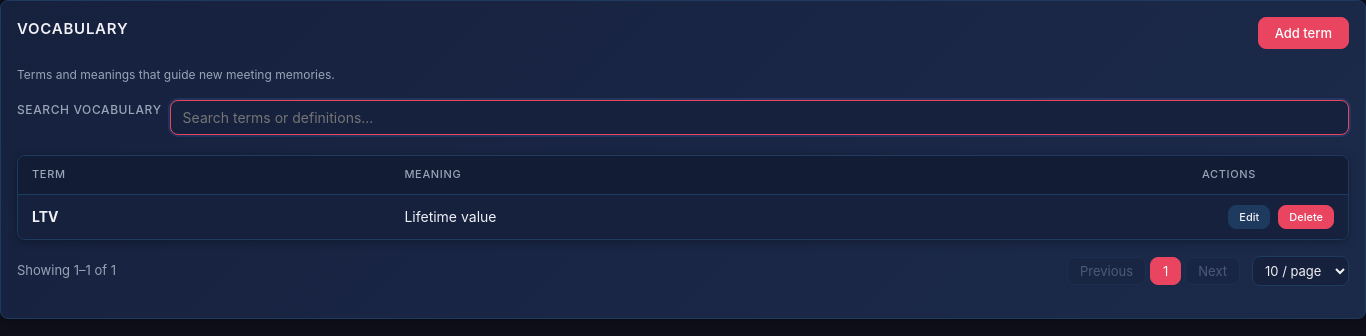
it: MeetingVocabulary › debounces typing while retaining search focus and ignores stale results
Expected: the text "Lifetime value" is shown, [404,208,496,225]
Type "old" into the field labelled "Search vocabulary".
click(759, 118); type("old")  # box [170,100,1349,135]
Wait 300 ms
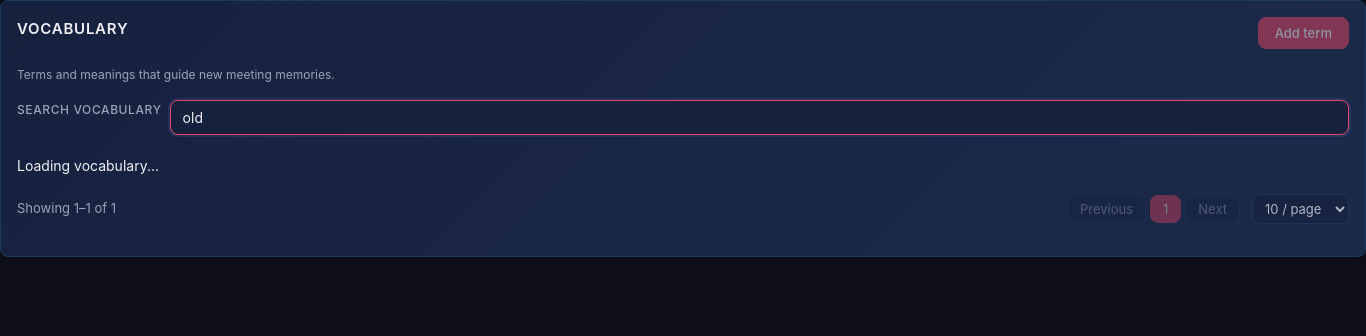
Replace the text in the field labelled "Search vocabulary" with "new" at (759, 118), box [170,100,1349,135]
Wait 300 ms
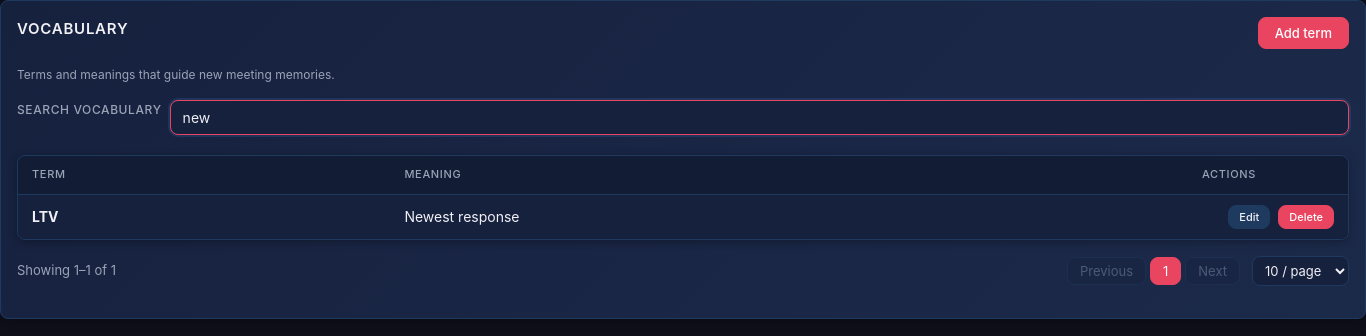
Now the text "Newest response" is shown, box [404,208,520,225]
